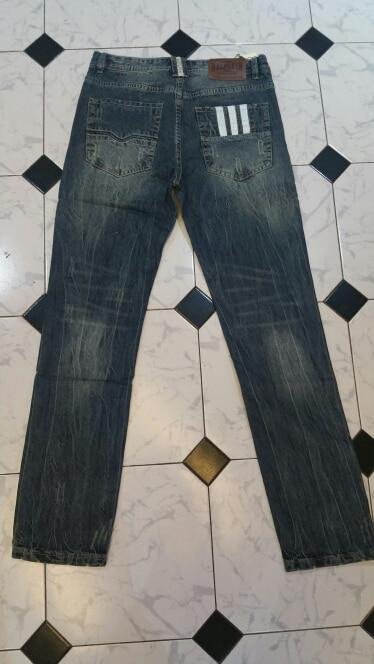jeans: (35, 48, 374, 583)
